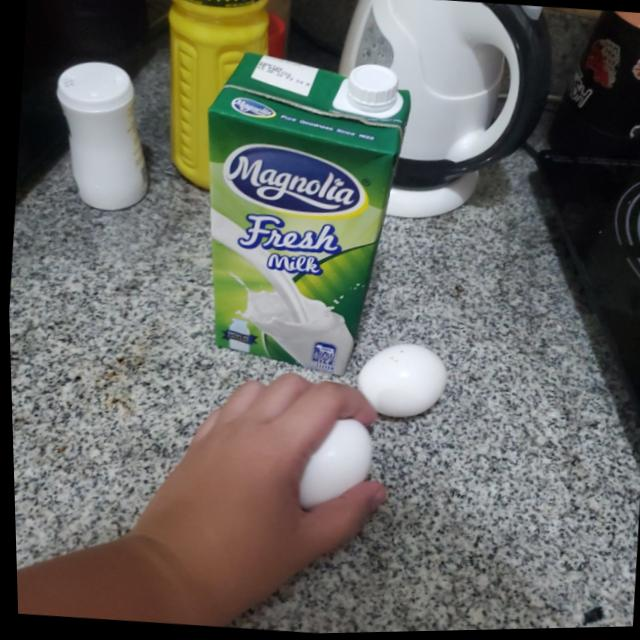egg: (281, 417, 375, 514), (351, 340, 448, 427)
milk: (184, 47, 419, 386)
